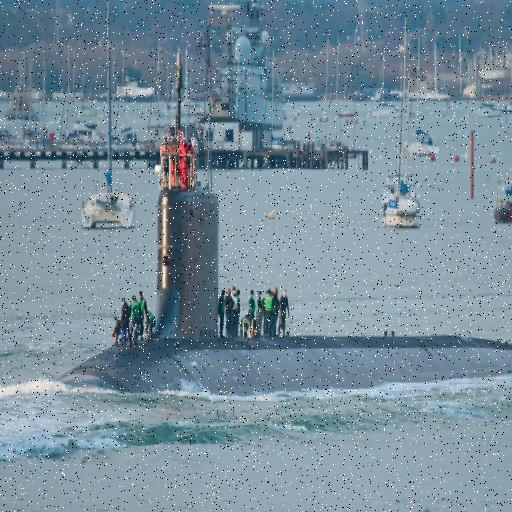submarine: (47, 39, 512, 393)
